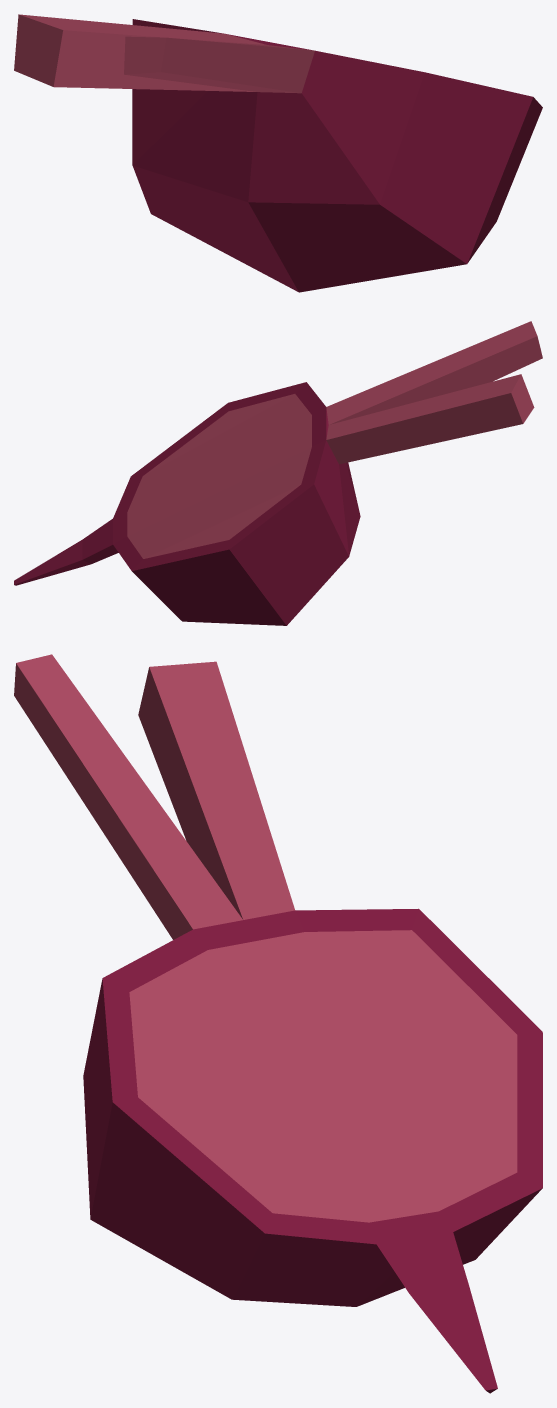
The model's file is beetrootHalf.fbx.
3 views of the same model, one above another, from view 1: azimuth 30°, elevation 25°; view 2: azimuth 150°, elevation 25°; view 3: azimuth 270°, elevation 25° (orthographic). The views are drawn at different scales.
Parts seen in each view (by area): view 1: beetrootHalf; view 2: beetrootHalf; view 3: beetrootHalf.
Boxes of the visible parts, left/top/right/bottom form: beetrootHalf: left=14, top=14, right=542, bottom=292; beetrootHalf: left=14, top=321, right=542, bottom=625; beetrootHalf: left=14, top=654, right=542, bottom=1393.
Bounding box in the file's own units: 14.83 × 8.68 × 9.53.
Materials: 1 (1 with a texture image).
